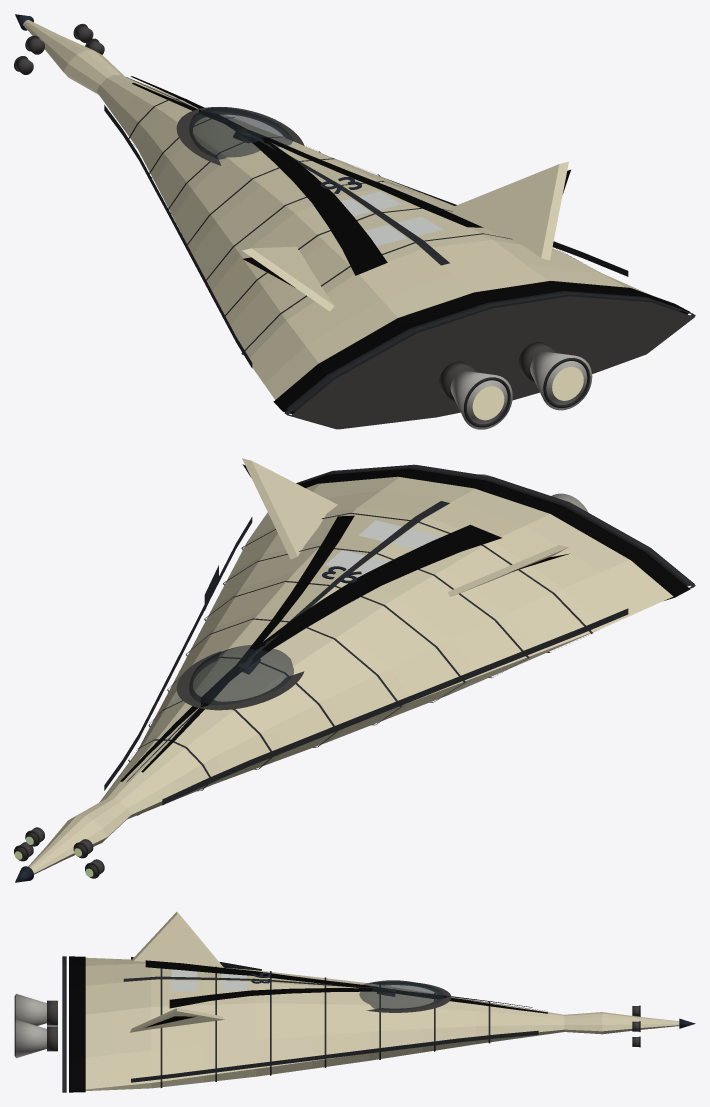
File: Ship_PyramidLifter_990348.glb
3 renders of one model, top to bottom at view 1: azimuth 30°, elevation 25°; view 2: azimuth 150°, elevation 25°; view 3: azimuth 270°, elevation 25°, orthographic. The views are drawn at different scales.
Visible parts, largest first — view 1: Fuselage_MainPyramidalLiftingBody, EngineDeck_AftFacetedDarkMountPlate, TailFin_Right_ShortCantedStabilizer, EngineDeck_AftOuterArmorCollar, PaintDiagonalArmor_TopPrimarySlash, CanopyGlass_LowInsetSmokedDome, Nose_FacetedRamNeedle, TailFin_Left_ShortCantedStabilizer, PaintDiagonalArmor_TopSecondaryCounterSlash, CanopyFrame_LowInsetArmoredOvalRim, EngineEmitter, EngineBell_Left_BurnishedNozzle (+7 smaller); view 2: Fuselage_MainPyramidalLiftingBody, PaintDiagonalArmor_TopPrimarySlash, EngineDeck_AftOuterArmorCollar, CanopyGlass_LowInsetSmokedDome, TailFin_Right_ShortCantedStabilizer, SideChinePanel_Left_LongDarkArmorJoint, Nose_FacetedRamNeedle, PaintDiagonalArmor_TopSecondaryCounterSlash, CanopyFrame_LowInsetArmoredOvalRim, EngineDeck_AftDarkCompressionSeal, EngineDeck_AftFacetedDarkMountPlate, HullLongitudinalSeam_DorsalRidgeDarkLine (+4 smaller); view 3: Fuselage_MainPyramidalLiftingBody, TailFin_Left_ShortCantedStabilizer, EngineDeck_AftOuterArmorCollar, CanopyGlass_LowInsetSmokedDome, SideChinePanel_Right_LongDarkArmorJoint, Nose_FacetedRamNeedle, PaintDiagonalArmor_TopPrimarySlash, PaintDiagonalArmor_TopSecondaryCounterSlash, EngineBell_Right_BurnishedNozzle, TailFin_Right_ShortCantedStabilizer, EngineBell_Left_BurnishedNozzle, CanopyFrame_LowInsetArmoredOvalRim (+5 smaller).
Part boxes in pixels (x1,y1,x2,y2): Fuselage_MainPyramidalLiftingBody: [96, 75, 682, 411]; EngineDeck_AftFacetedDarkMountPlate: [291, 296, 694, 429]; TailFin_Right_ShortCantedStabilizer: [445, 161, 568, 260]; EngineDeck_AftOuterArmorCollar: [273, 281, 690, 414]; PaintDiagonalArmor_TopPrimarySlash: [130, 76, 387, 275]; CanopyGlass_LowInsetSmokedDome: [189, 107, 293, 159]; Nose_FacetedRamNeedle: [23, 20, 124, 94]; TailFin_Left_ShortCantedStabilizer: [242, 246, 334, 311]; PaintDiagonalArmor_TopSecondaryCounterSlash: [132, 82, 483, 227]; CanopyFrame_LowInsetArmoredOvalRim: [176, 107, 304, 165]; EngineEmitter: [472, 367, 583, 420]; EngineBell_Left_BurnishedNozzle: [450, 371, 512, 429]; Fuselage_MainPyramidalLiftingBody: [99, 476, 673, 819]; PaintDiagonalArmor_TopPrimarySlash: [120, 524, 501, 781]; EngineDeck_AftOuterArmorCollar: [298, 468, 690, 600]; CanopyGlass_LowInsetSmokedDome: [189, 645, 293, 705]; TailFin_Right_ShortCantedStabilizer: [242, 458, 337, 559]; SideChinePanel_Left_LongDarkArmorJoint: [162, 608, 628, 805]; Nose_FacetedRamNeedle: [28, 798, 130, 874]; PaintDiagonalArmor_TopSecondaryCounterSlash: [141, 515, 354, 772]; CanopyFrame_LowInsetArmoredOvalRim: [176, 651, 304, 710]; EngineDeck_AftDarkCompressionSeal: [296, 464, 695, 588]; EngineDeck_AftFacetedDarkMountPlate: [298, 465, 694, 586]; HullLongitudinalSeam_DorsalRidgeDarkLine: [126, 501, 449, 782]; Fuselage_MainPyramidalLiftingBody: [85, 957, 564, 1090]; TailFin_Left_ShortCantedStabilizer: [131, 911, 223, 967]; EngineDeck_AftOuterArmorCollar: [69, 956, 85, 1092]; CanopyGlass_LowInsetSmokedDome: [359, 980, 443, 1010]; SideChinePanel_Right_LongDarkArmorJoint: [131, 1030, 538, 1082]; Nose_FacetedRamNeedle: [564, 1012, 679, 1034]; PaintDiagonalArmor_TopPrimarySlash: [145, 960, 547, 1013]; PaintDiagonalArmor_TopSecondaryCounterSlash: [169, 988, 532, 1008]; EngineBell_Right_BurnishedNozzle: [15, 1019, 46, 1058]; TailFin_Right_ShortCantedStabilizer: [130, 1008, 224, 1032]; EngineBell_Left_BurnishedNozzle: [15, 994, 46, 1025]; CanopyFrame_LowInsetArmoredOvalRim: [366, 982, 451, 1012].
Size of the model in its own units: 3.56 by 1.24 by 7.75.
